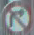Don't turn right: (3, 5, 33, 33)
